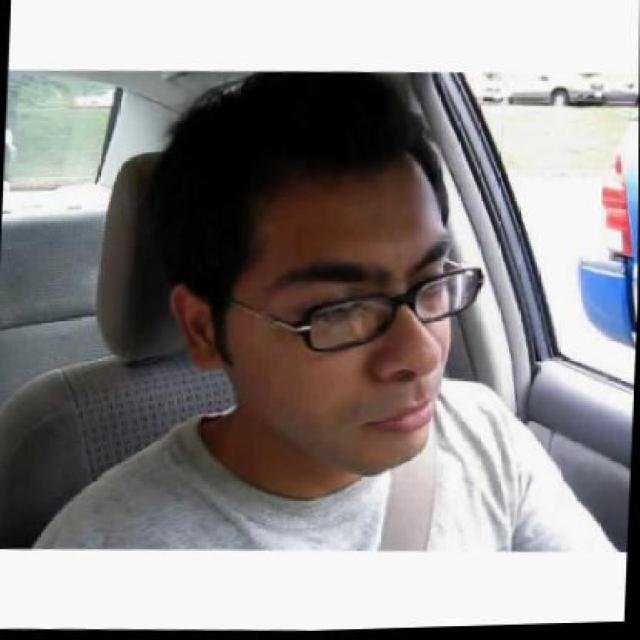attentif: (164, 64, 490, 490)
